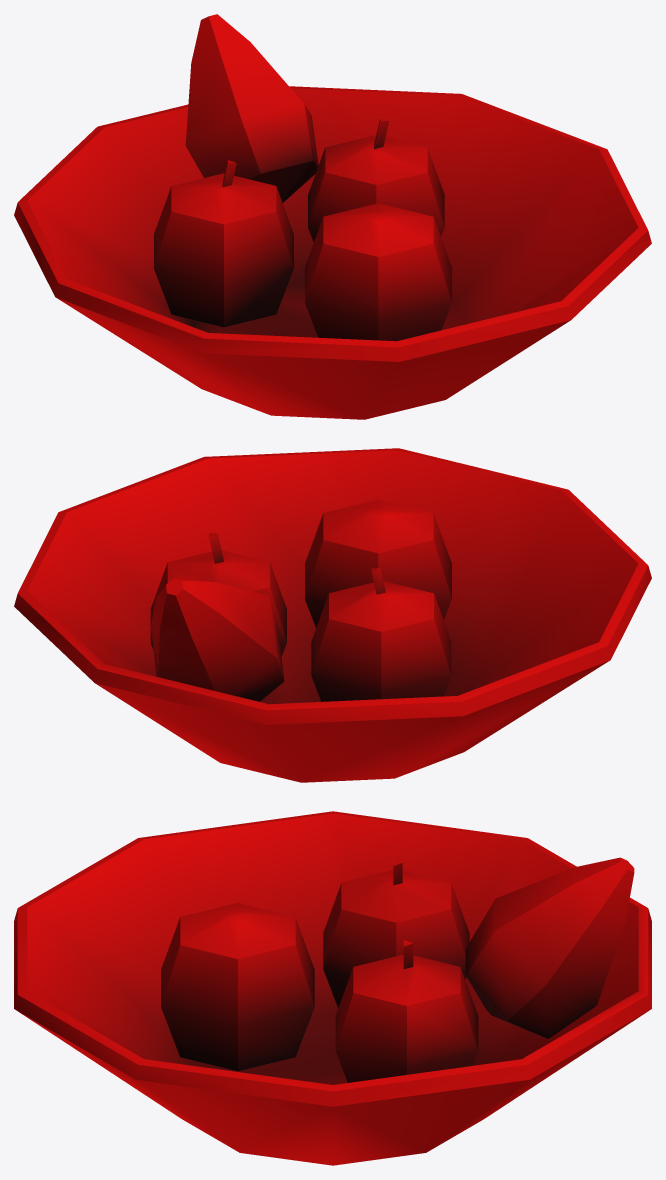
The model's file is CI_Kitchen_FruitBowl.glb.
The picture shows the model from 3 angles, top to bottom: view 1: azimuth 30°, elevation 25°; view 2: azimuth 150°, elevation 25°; view 3: azimuth 270°, elevation 25°; orthographic projection. The views are drawn at different scales.
Visible parts, largest first — view 1: CI_Kitchen_FruitBowl; view 2: CI_Kitchen_FruitBowl; view 3: CI_Kitchen_FruitBowl.
Part boxes in pixels (x1,y1,x2,y2): CI_Kitchen_FruitBowl: [14, 14, 651, 419]; CI_Kitchen_FruitBowl: [14, 448, 651, 782]; CI_Kitchen_FruitBowl: [14, 811, 651, 1165].
Bounding box in the file's own units: 0.3173 × 0.1294 × 0.3018.
